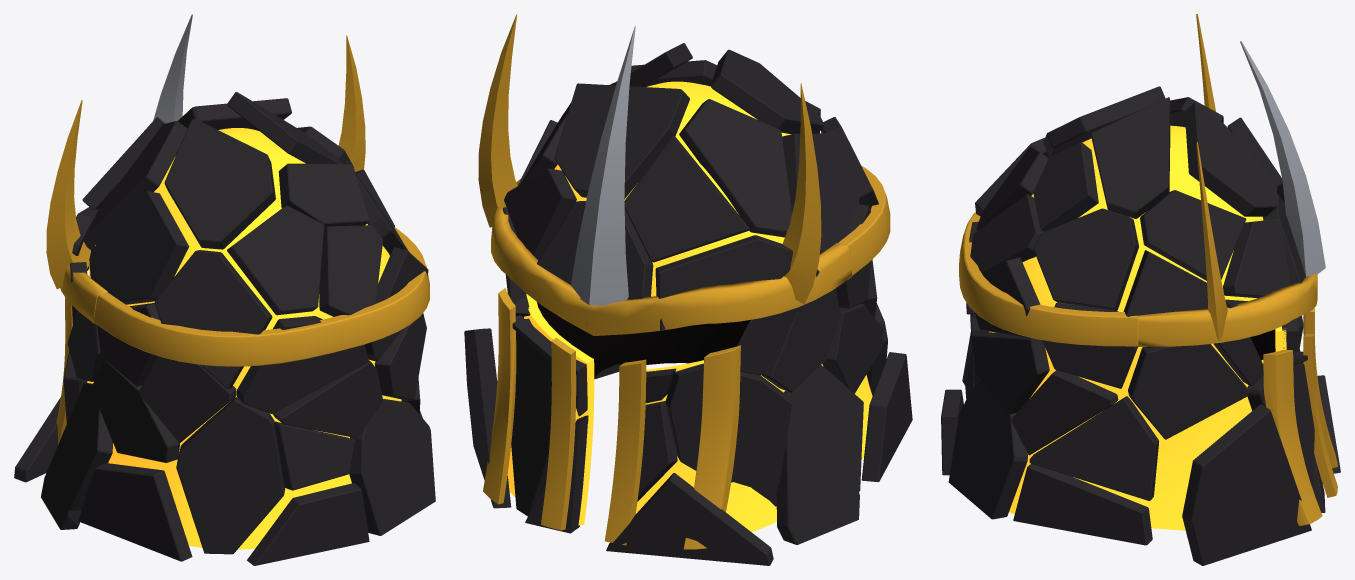
The model's file is CasqueCharbonOr.fbx.
The picture shows the model from 3 angles, left to right: view 1: azimuth 30°, elevation 25°; view 2: azimuth 150°, elevation 25°; view 3: azimuth 270°, elevation 25°; orthographic projection. The views are drawn at different scales.
Visible parts, largest first — view 1: Roche, Or, Fissures, FerClair; view 2: Roche, Or, FerClair, Fissures, Doublure; view 3: Roche, Or, Fissures, FerClair, Doublure.
Boxes of the visible parts, bbox=[...] form: Roche: bbox=[14, 92, 435, 565]; Or: bbox=[46, 35, 429, 444]; Fissures: bbox=[87, 128, 401, 549]; FerClair: bbox=[153, 14, 192, 123]; Roche: bbox=[464, 43, 912, 565]; Or: bbox=[478, 14, 890, 549]; FerClair: bbox=[571, 26, 635, 305]; Fissures: bbox=[507, 81, 872, 531]; Doublure: bbox=[537, 302, 750, 377]; Roche: bbox=[941, 86, 1340, 565]; Or: bbox=[959, 14, 1337, 526]; Fissures: bbox=[989, 125, 1286, 530]; FerClair: bbox=[1240, 41, 1325, 276]; Doublure: bbox=[1250, 329, 1275, 360].
Size of the model in its own units: 218 by 265 by 216.
